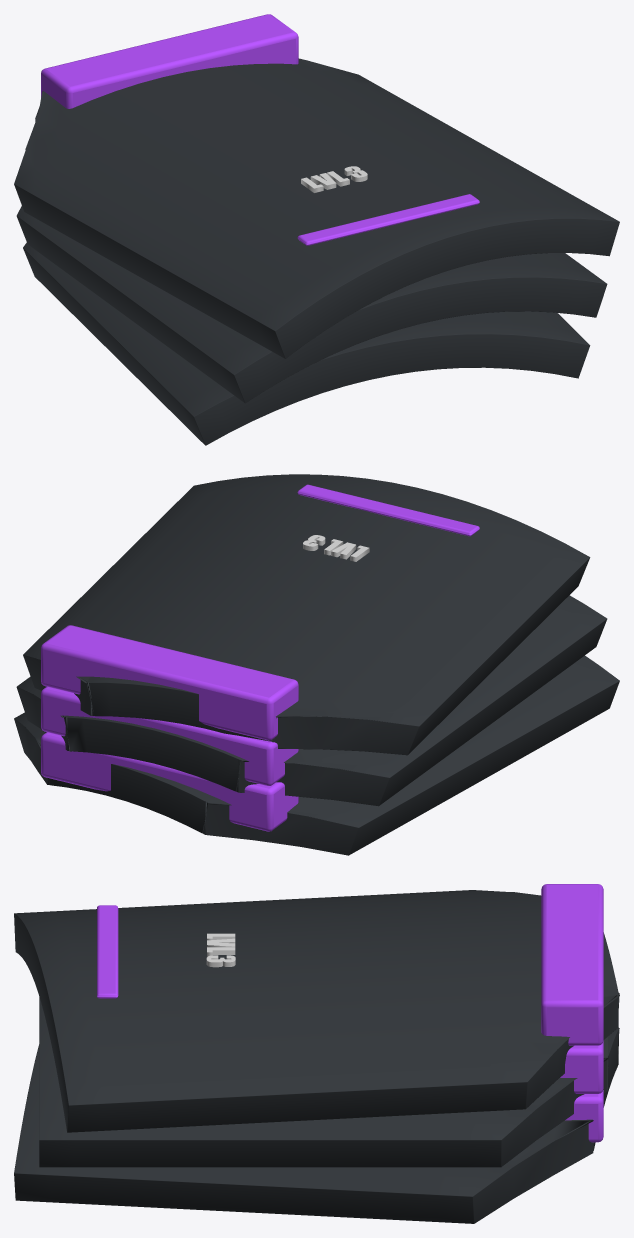
Rendered from placa_3.glb.
The picture shows the model from 3 angles, top to bottom: view 1: azimuth 30°, elevation 25°; view 2: azimuth 150°, elevation 25°; view 3: azimuth 270°, elevation 25°; orthographic projection. The views are drawn at different scales.
Parts seen in each view (by area): view 1: Grid; view 2: Grid; view 3: Grid.
Part boxes in pixels (x1,y1,x2,y2): Grid: (14,14,619,445); Grid: (14,474,619,855); Grid: (14,884,619,1223).
Size of the model in its own units: 0.294 by 0.1132 by 0.341.
